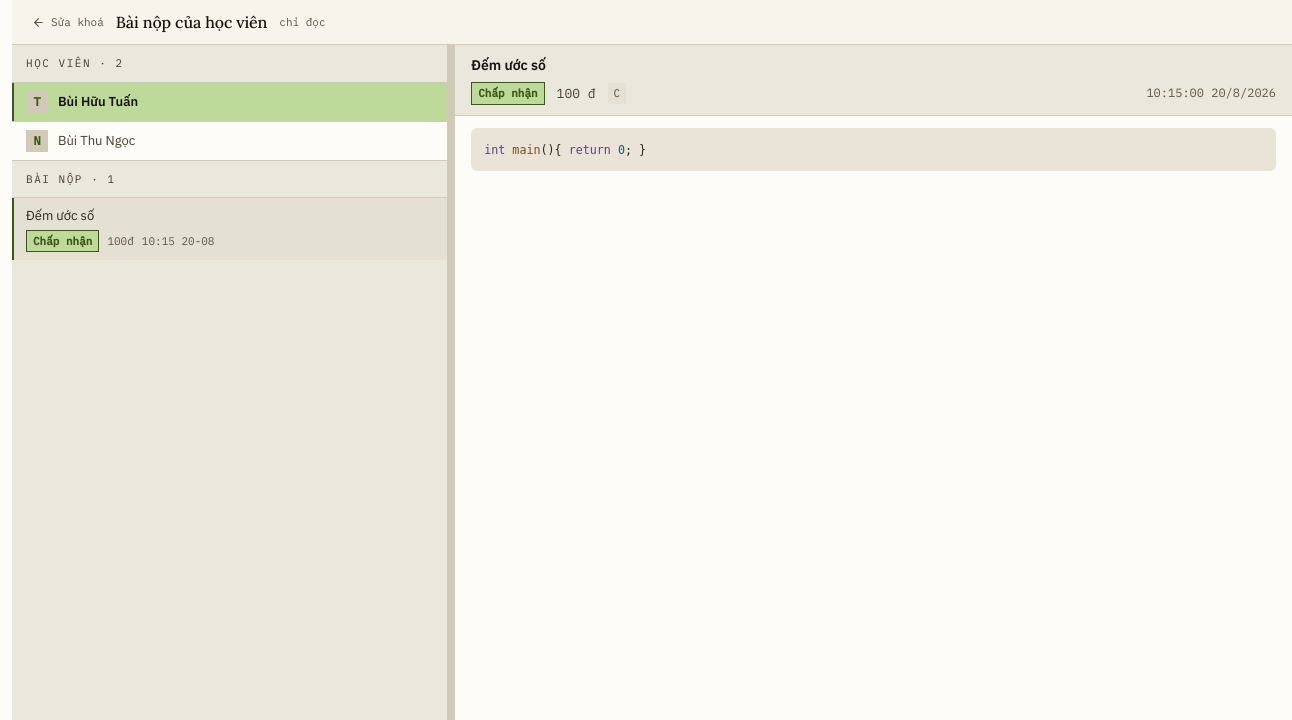
mentor đọc bài nộp của học viên › đổi học viên thì panel phải đổi theo — KHÔNG giữ mã của người trước
The image size is (1292, 720).
Click the button "N Bùi Thu Ngọc" at (97, 140), box [12, 122, 447, 160]
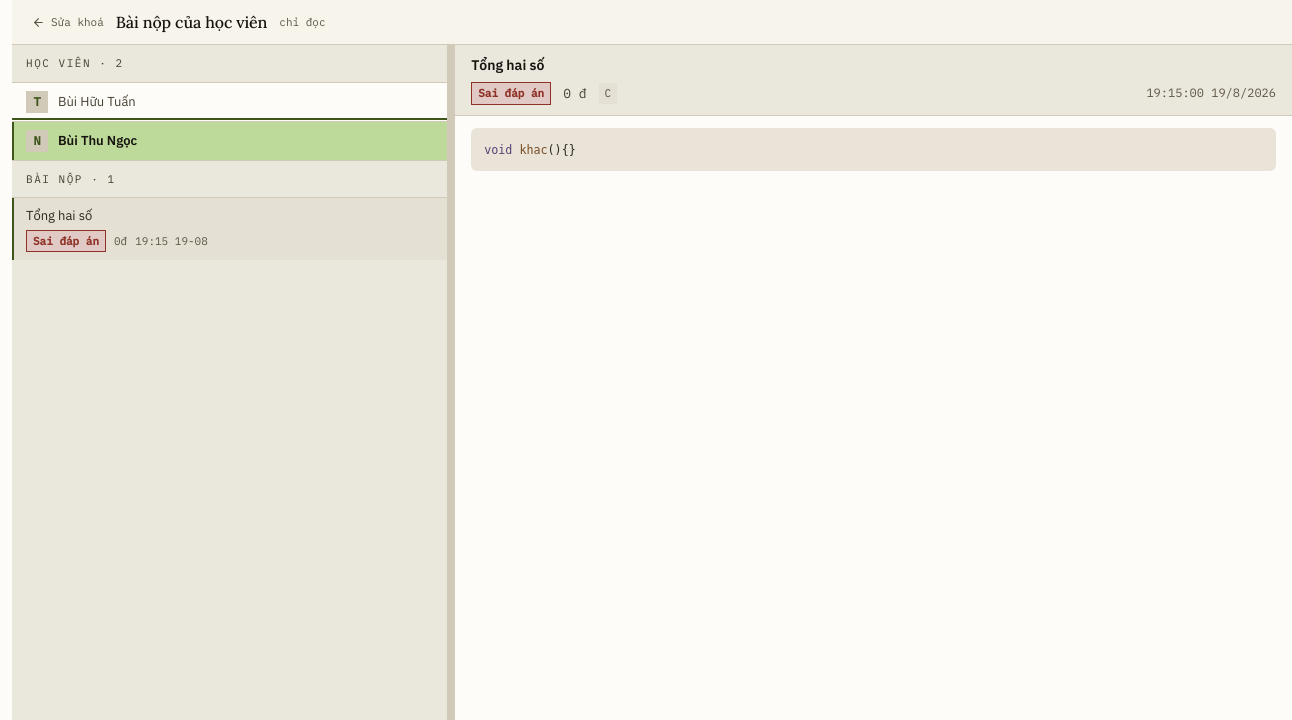
Result: the text "Tổng hai số" below "· 1" is shown at [26, 207, 92, 224]
Result: the element with class "markdown-body" shows "void khac" at [455, 116, 1291, 719]
Result: the element with class "markdown-body" no longer shows "int main"
